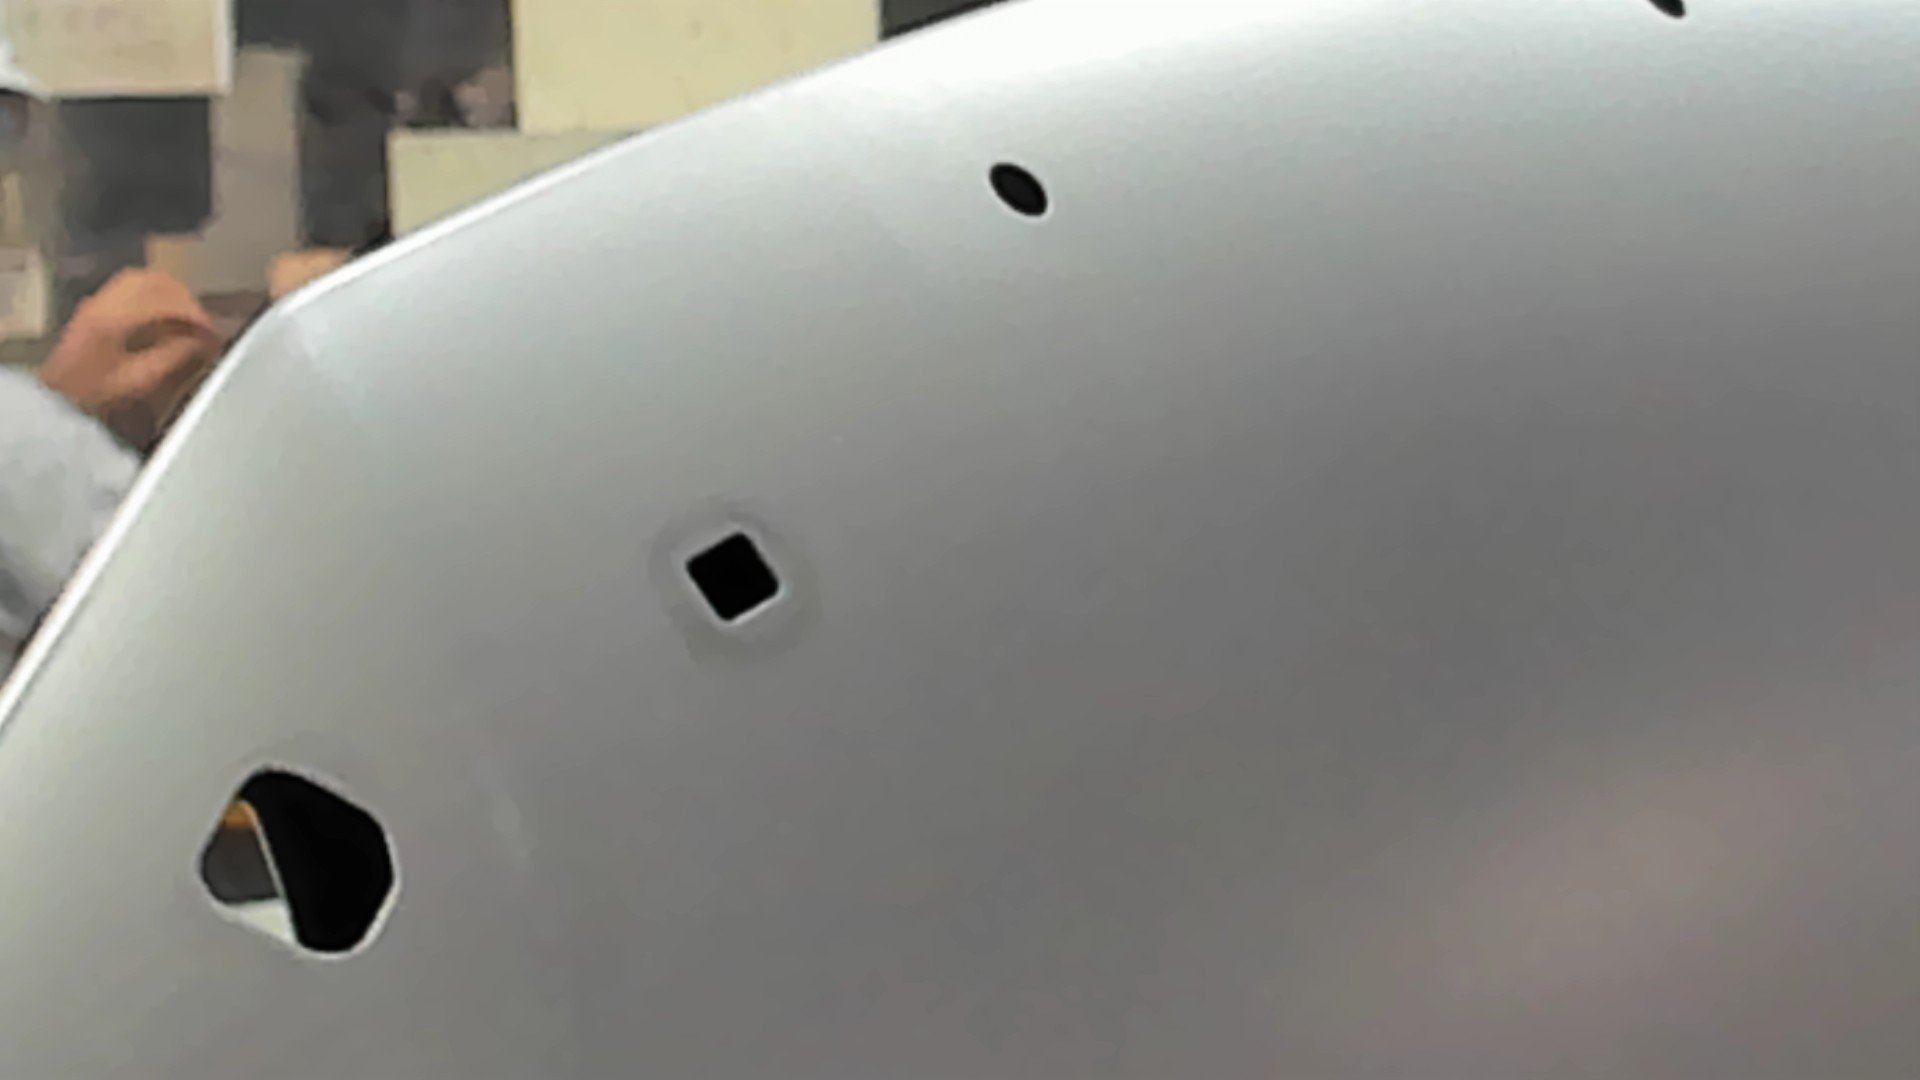chico: (984, 160, 1054, 223), (1644, 1, 1692, 22)
grande: (195, 761, 405, 961)
mediano: (682, 527, 785, 628)
